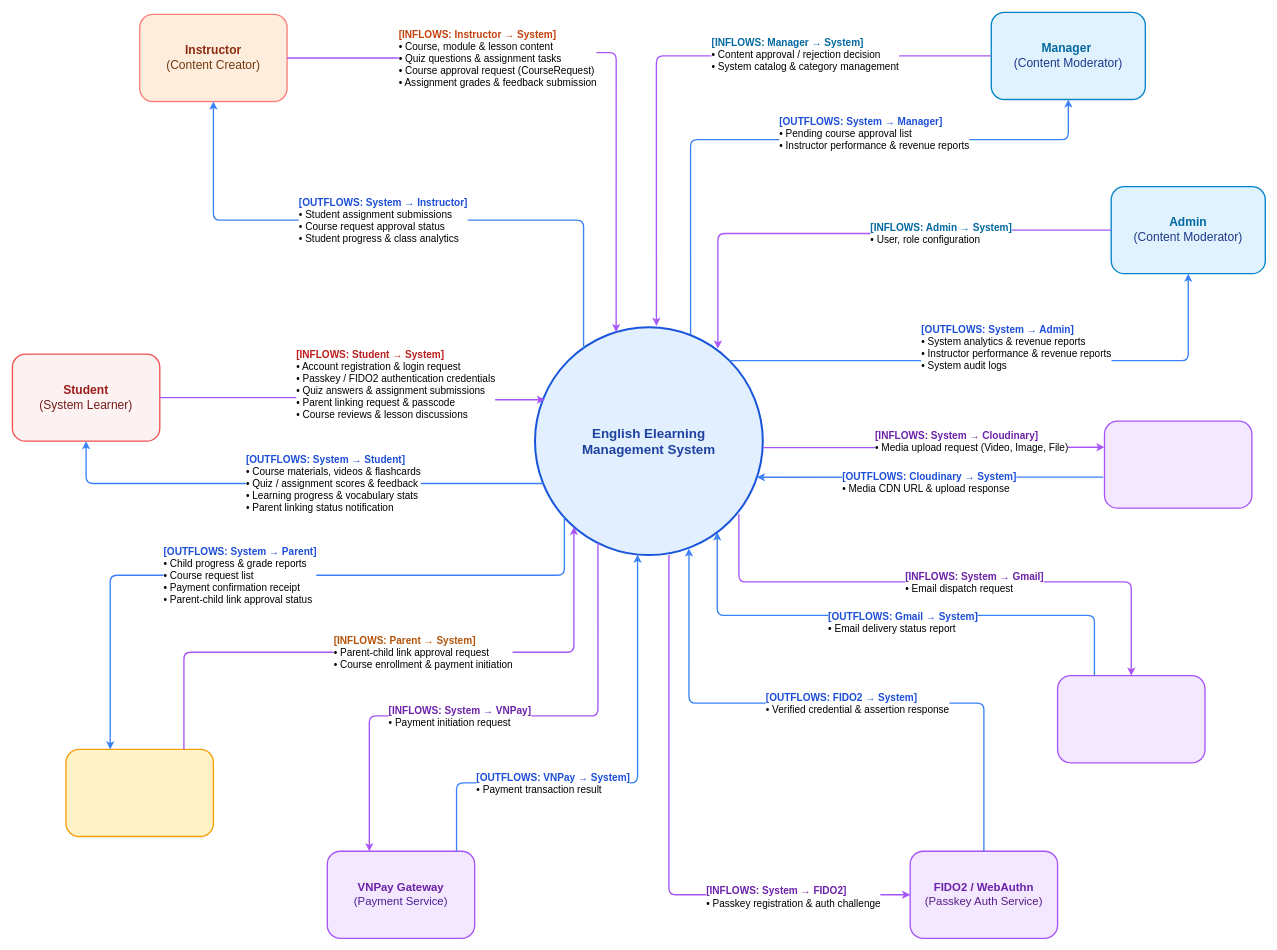
The diagram is 1277 pixels wide and 950 high, and some of its shapes have lost their labels. Here are the shapes that lost their labels. From the top down, the box of each, then its label:
(1103, 420, 1252, 509): Cloudinary Storage (Media CDN Service)
(1057, 675, 1205, 763): Gmail / SMTP Service (Email & OTP Service)
(65, 748, 214, 837): Parent (Student Guardian)
